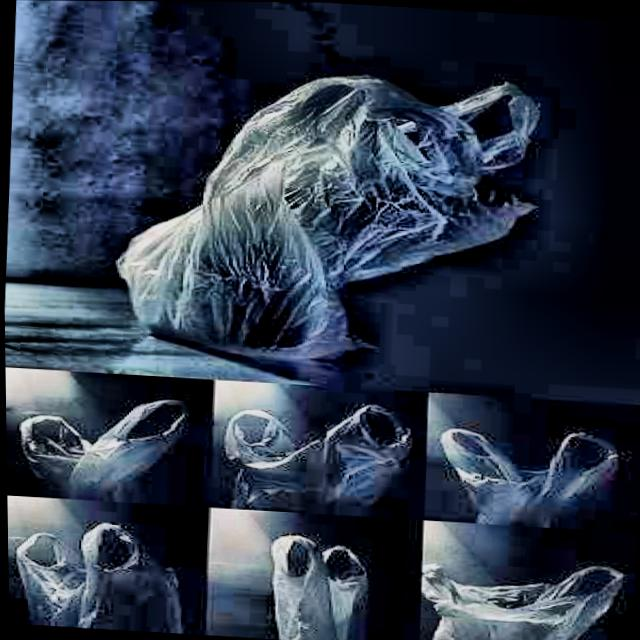Plastic: (106, 34, 564, 375), (404, 536, 635, 640), (212, 393, 404, 515), (432, 416, 617, 536), (6, 504, 168, 632), (20, 374, 183, 500), (240, 512, 383, 640)
